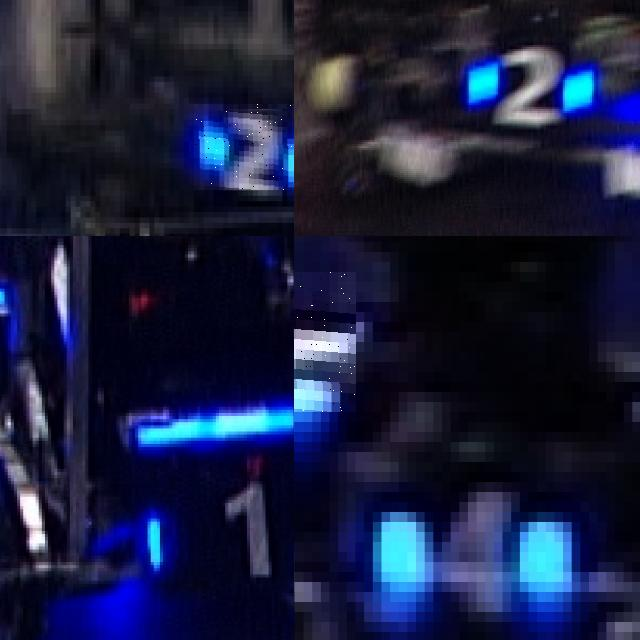B2: (461, 40, 593, 130), (194, 103, 294, 190)
B4: (364, 482, 580, 612), (294, 272, 355, 412)
